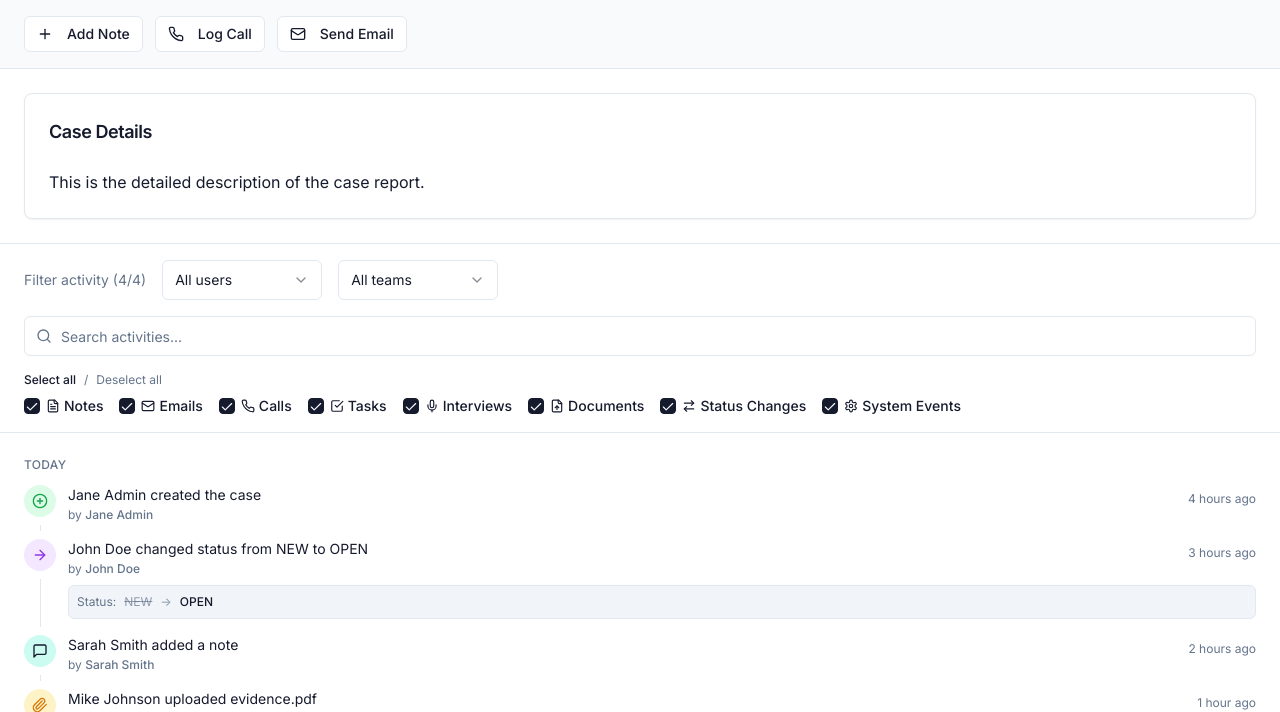
Test case: CaseActivityTimeline › filters activities when checking Documents
Expected: the text "Jane Admin created the case" is shown, [68, 486, 261, 503]
Note: Deselect all, then select only documents
Click the button "Deselect all" at [129, 380], box [96, 372, 162, 388]
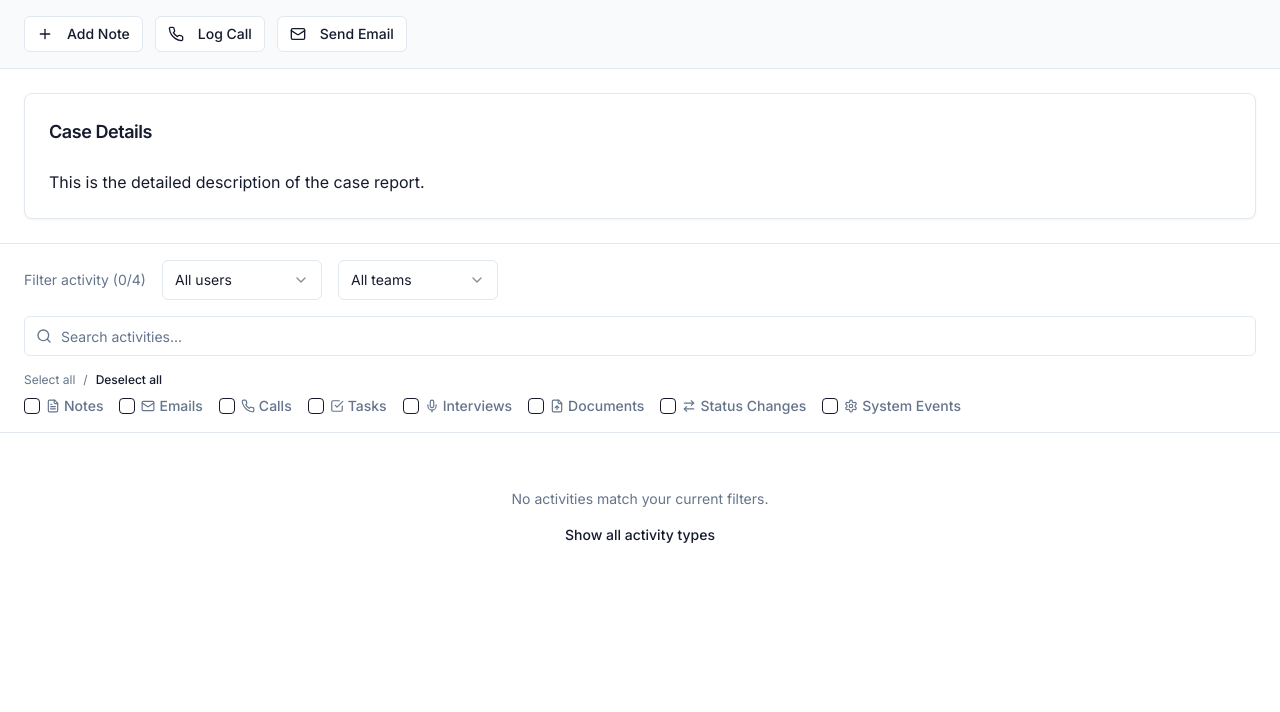
Click the checkbox named "documents" next to "Documents" at [536, 406], box [528, 398, 544, 414]
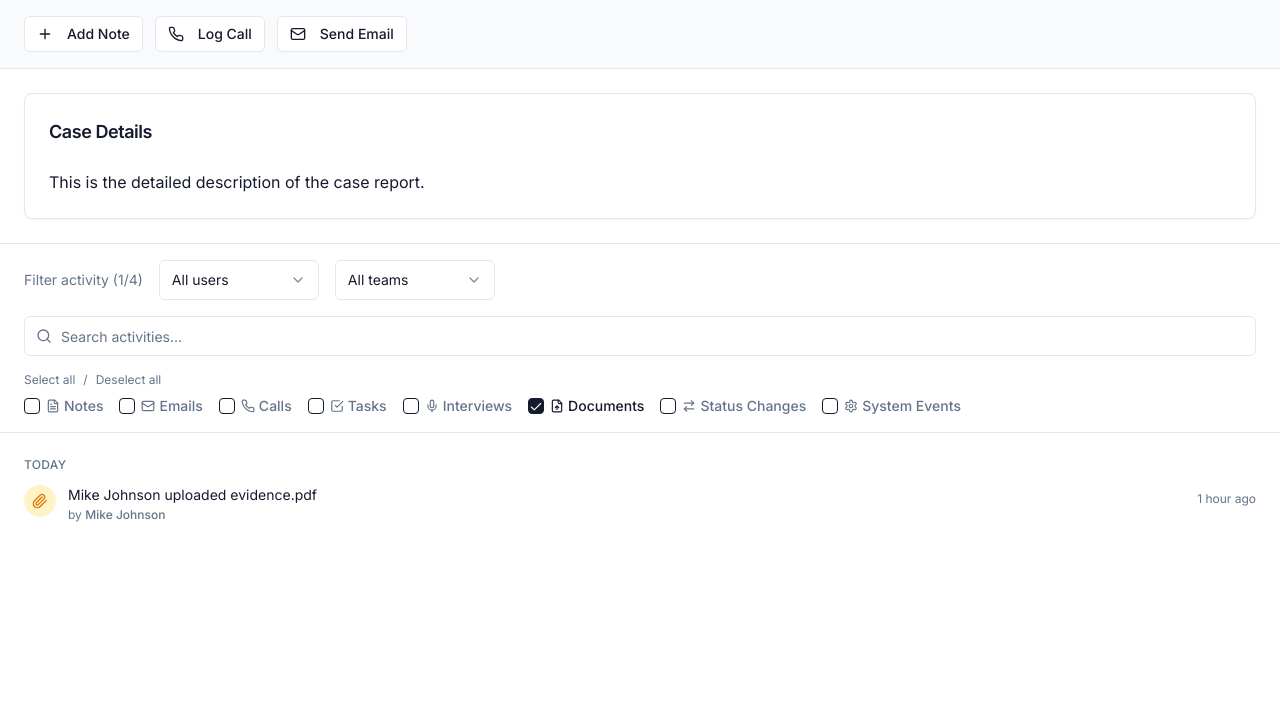
Now the text "Mike Johnson uploaded evidence.pdf" is shown, box [68, 486, 317, 503]
